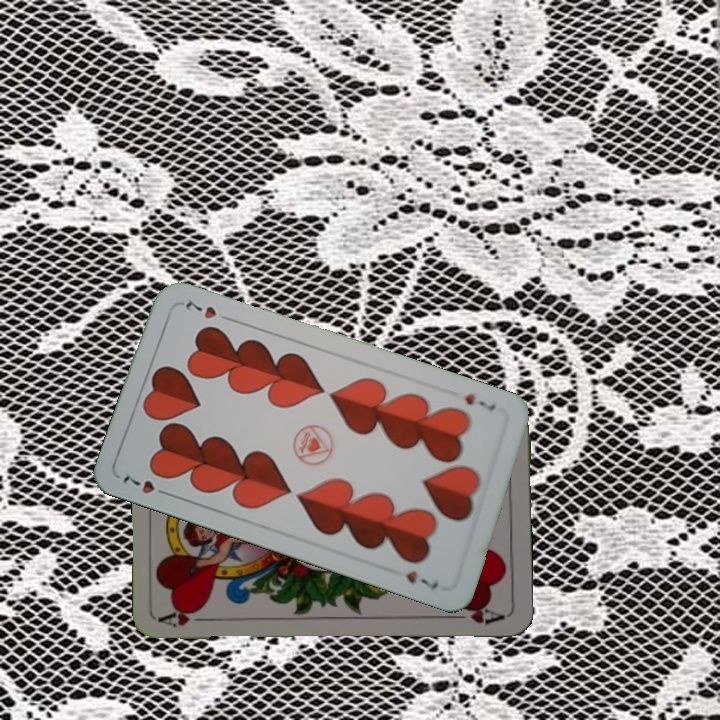H7: (119, 471, 174, 500), (460, 390, 499, 414)
HA: (157, 604, 216, 630)
